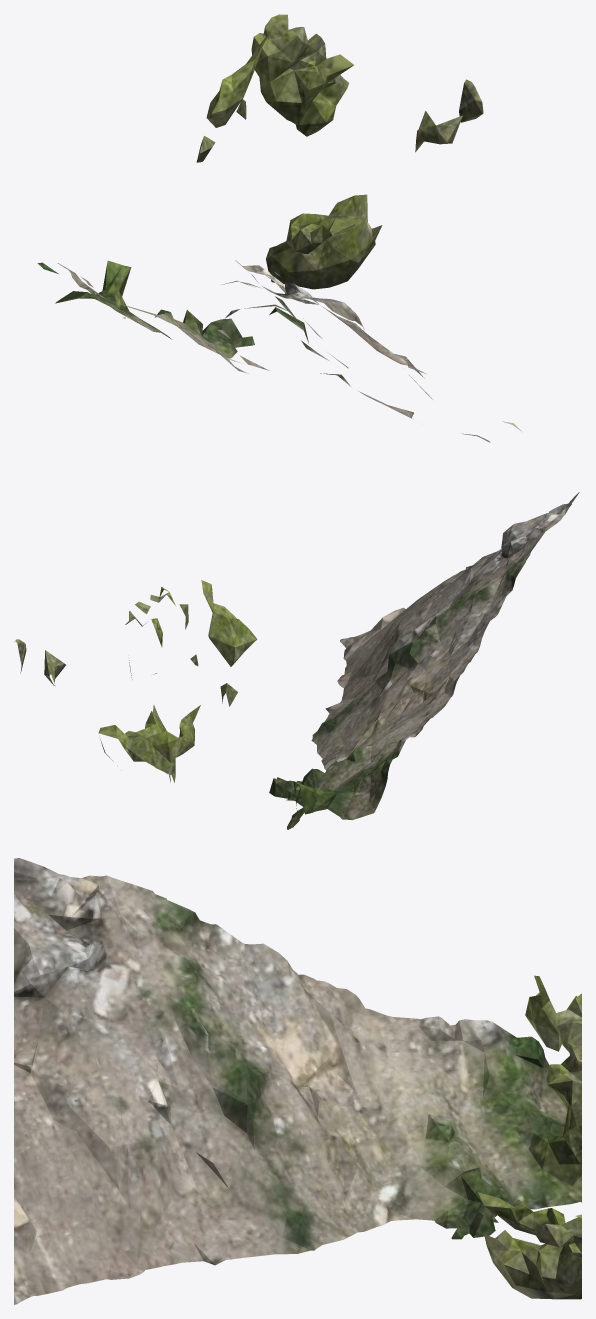
3 renders of one model, top to bottom at view 1: azimuth 30°, elevation 25°; view 2: azimuth 150°, elevation 25°; view 3: azimuth 270°, elevation 25°, orthographic. The views are drawn at different scales.
Bounding box in the file's own units: 11.8 × 6.71 × 11.8.
2 materials, 2 textured.
